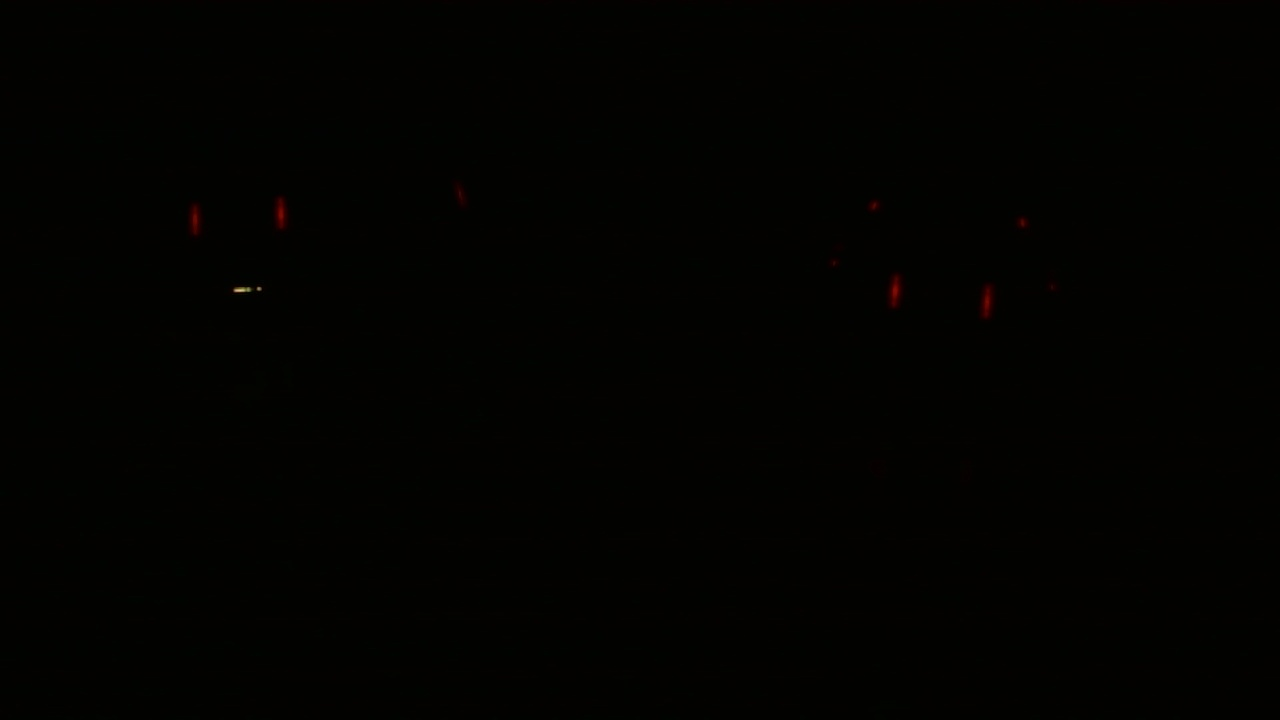pair1: (178, 193, 305, 254)
pair2: (879, 265, 1004, 336)
